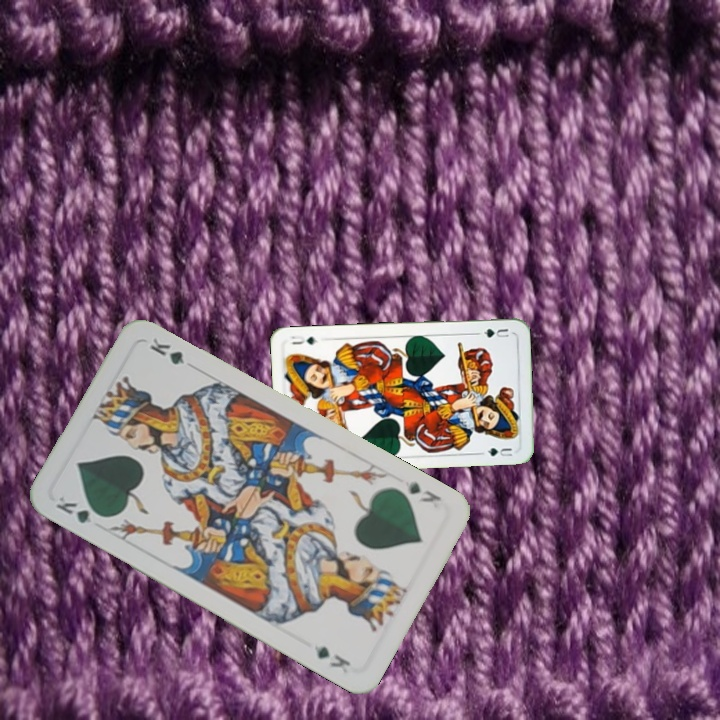GK: (51, 492, 108, 526), (404, 477, 444, 506)
GU: (473, 324, 511, 340)
